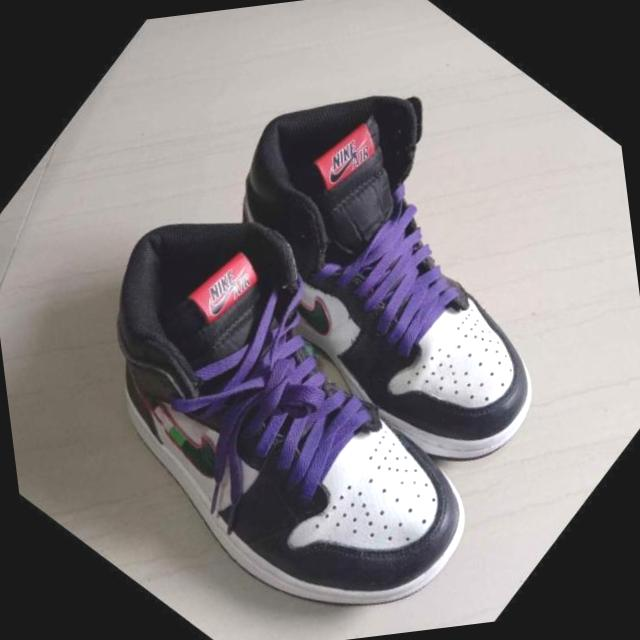nike_fake_jordan: (0, 124, 569, 640), (118, 0, 640, 535)
